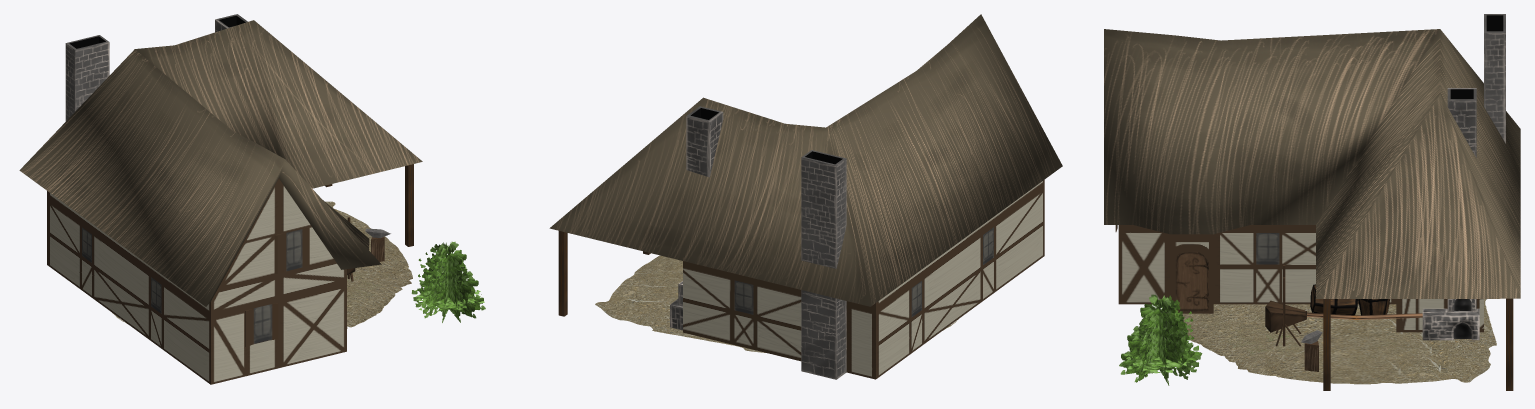
Rendered from forge_age1.obj.
3 views of the same model, side by side, from view 1: azimuth 30°, elevation 25°; view 2: azimuth 150°, elevation 25°; view 3: azimuth 270°, elevation 25° (orthographic). The views are drawn at different scales.
Visible parts, largest first — view 1: Plane_Plane.001; view 2: Plane_Plane.001; view 3: Plane_Plane.001.
Part boxes in pixels (left/top/right/bottom): Plane_Plane.001: left=19, top=14, right=485, bottom=384; Plane_Plane.001: left=549, top=14, right=1062, bottom=379; Plane_Plane.001: left=1104, top=14, right=1520, bottom=390.
Size of the model in its own units: 5.66 by 3.6 by 5.75.
